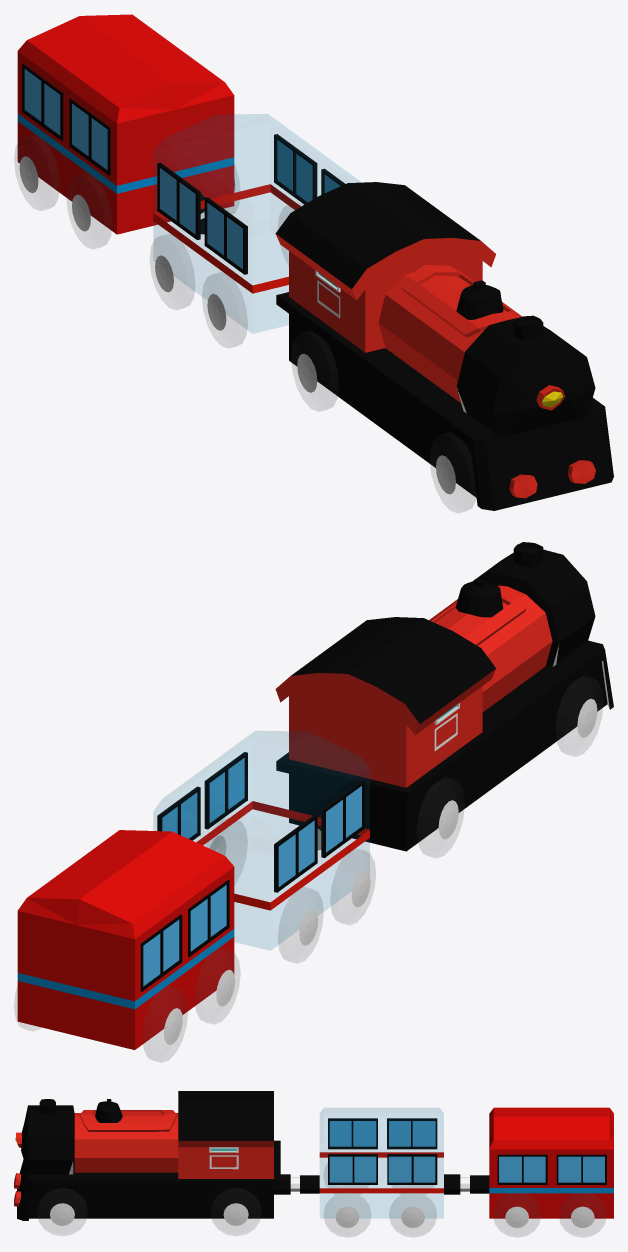
File: trenAA.dae
3 views of the same model, one above another, from view 1: azimuth 30°, elevation 25°; view 2: azimuth 150°, elevation 25°; view 3: azimuth 270°, elevation 25° (orthographic). The views are drawn at different scales.
Parts seen in each view (by area): view 1: Tren, Red Vagon, Blue Vagon; view 2: Tren, Red Vagon, Blue Vagon; view 3: Tren, Red Vagon, Blue Vagon.
Boxes of the visible parts, x1,y1,x2,y2 form: Tren: (275, 182, 613, 512); Red Vagon: (14, 14, 239, 248); Blue Vagon: (150, 114, 359, 347); Tren: (275, 542, 613, 857); Red Vagon: (14, 830, 239, 1062); Blue Vagon: (154, 731, 375, 962); Tren: (14, 1091, 299, 1235); Red Vagon: (460, 1107, 613, 1236); Blue Vagon: (300, 1108, 460, 1236).
Bounding box in the file's own units: 2.48 × 14.15 × 3.08.
